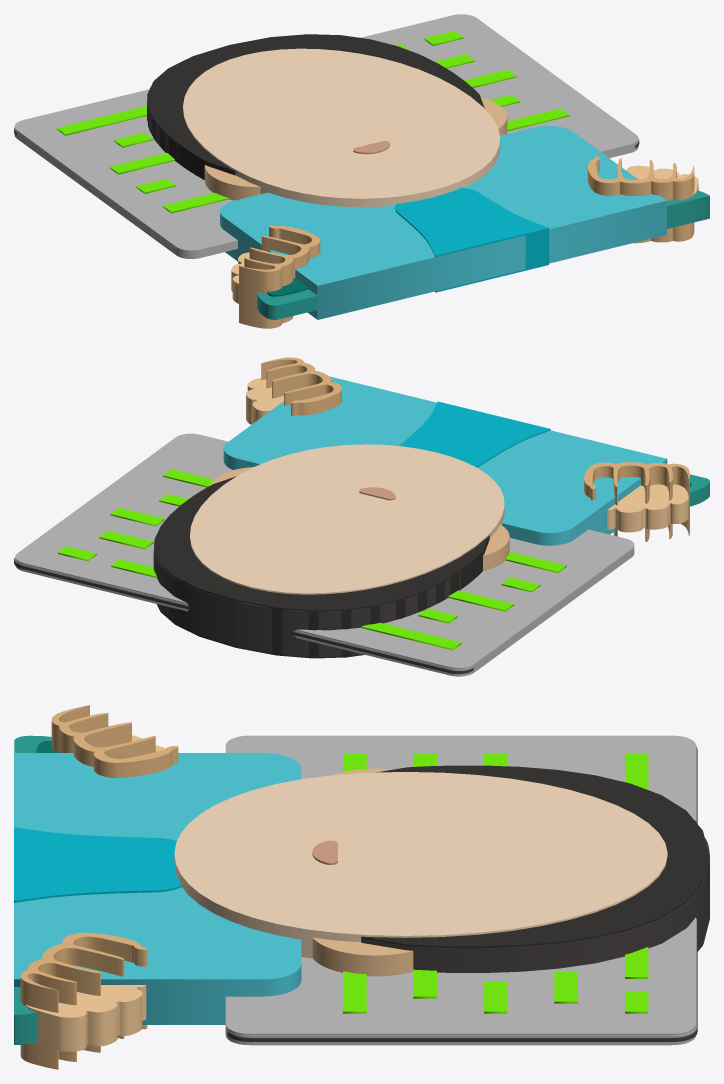
The model's file is emoji_u1f468_1f3fb_200d_1f4bb.glb.
The picture shows the model from 3 angles, top to bottom: view 1: azimuth 30°, elevation 25°; view 2: azimuth 150°, elevation 25°; view 3: azimuth 270°, elevation 25°; orthographic projection. The views are drawn at different scales.
Visible parts, largest first — view 1: emoji_u1f468_1f3fb_200d_1f4bb; view 2: emoji_u1f468_1f3fb_200d_1f4bb; view 3: emoji_u1f468_1f3fb_200d_1f4bb.
Boxes of the visible parts, x1,y1,x2,y2 form: emoji_u1f468_1f3fb_200d_1f4bb: (14,14,709,328); emoji_u1f468_1f3fb_200d_1f4bb: (14,357,709,676); emoji_u1f468_1f3fb_200d_1f4bb: (14,705,709,1069).
Size of the model in its own units: 0.0339 by 0.0042 by 0.0333.
